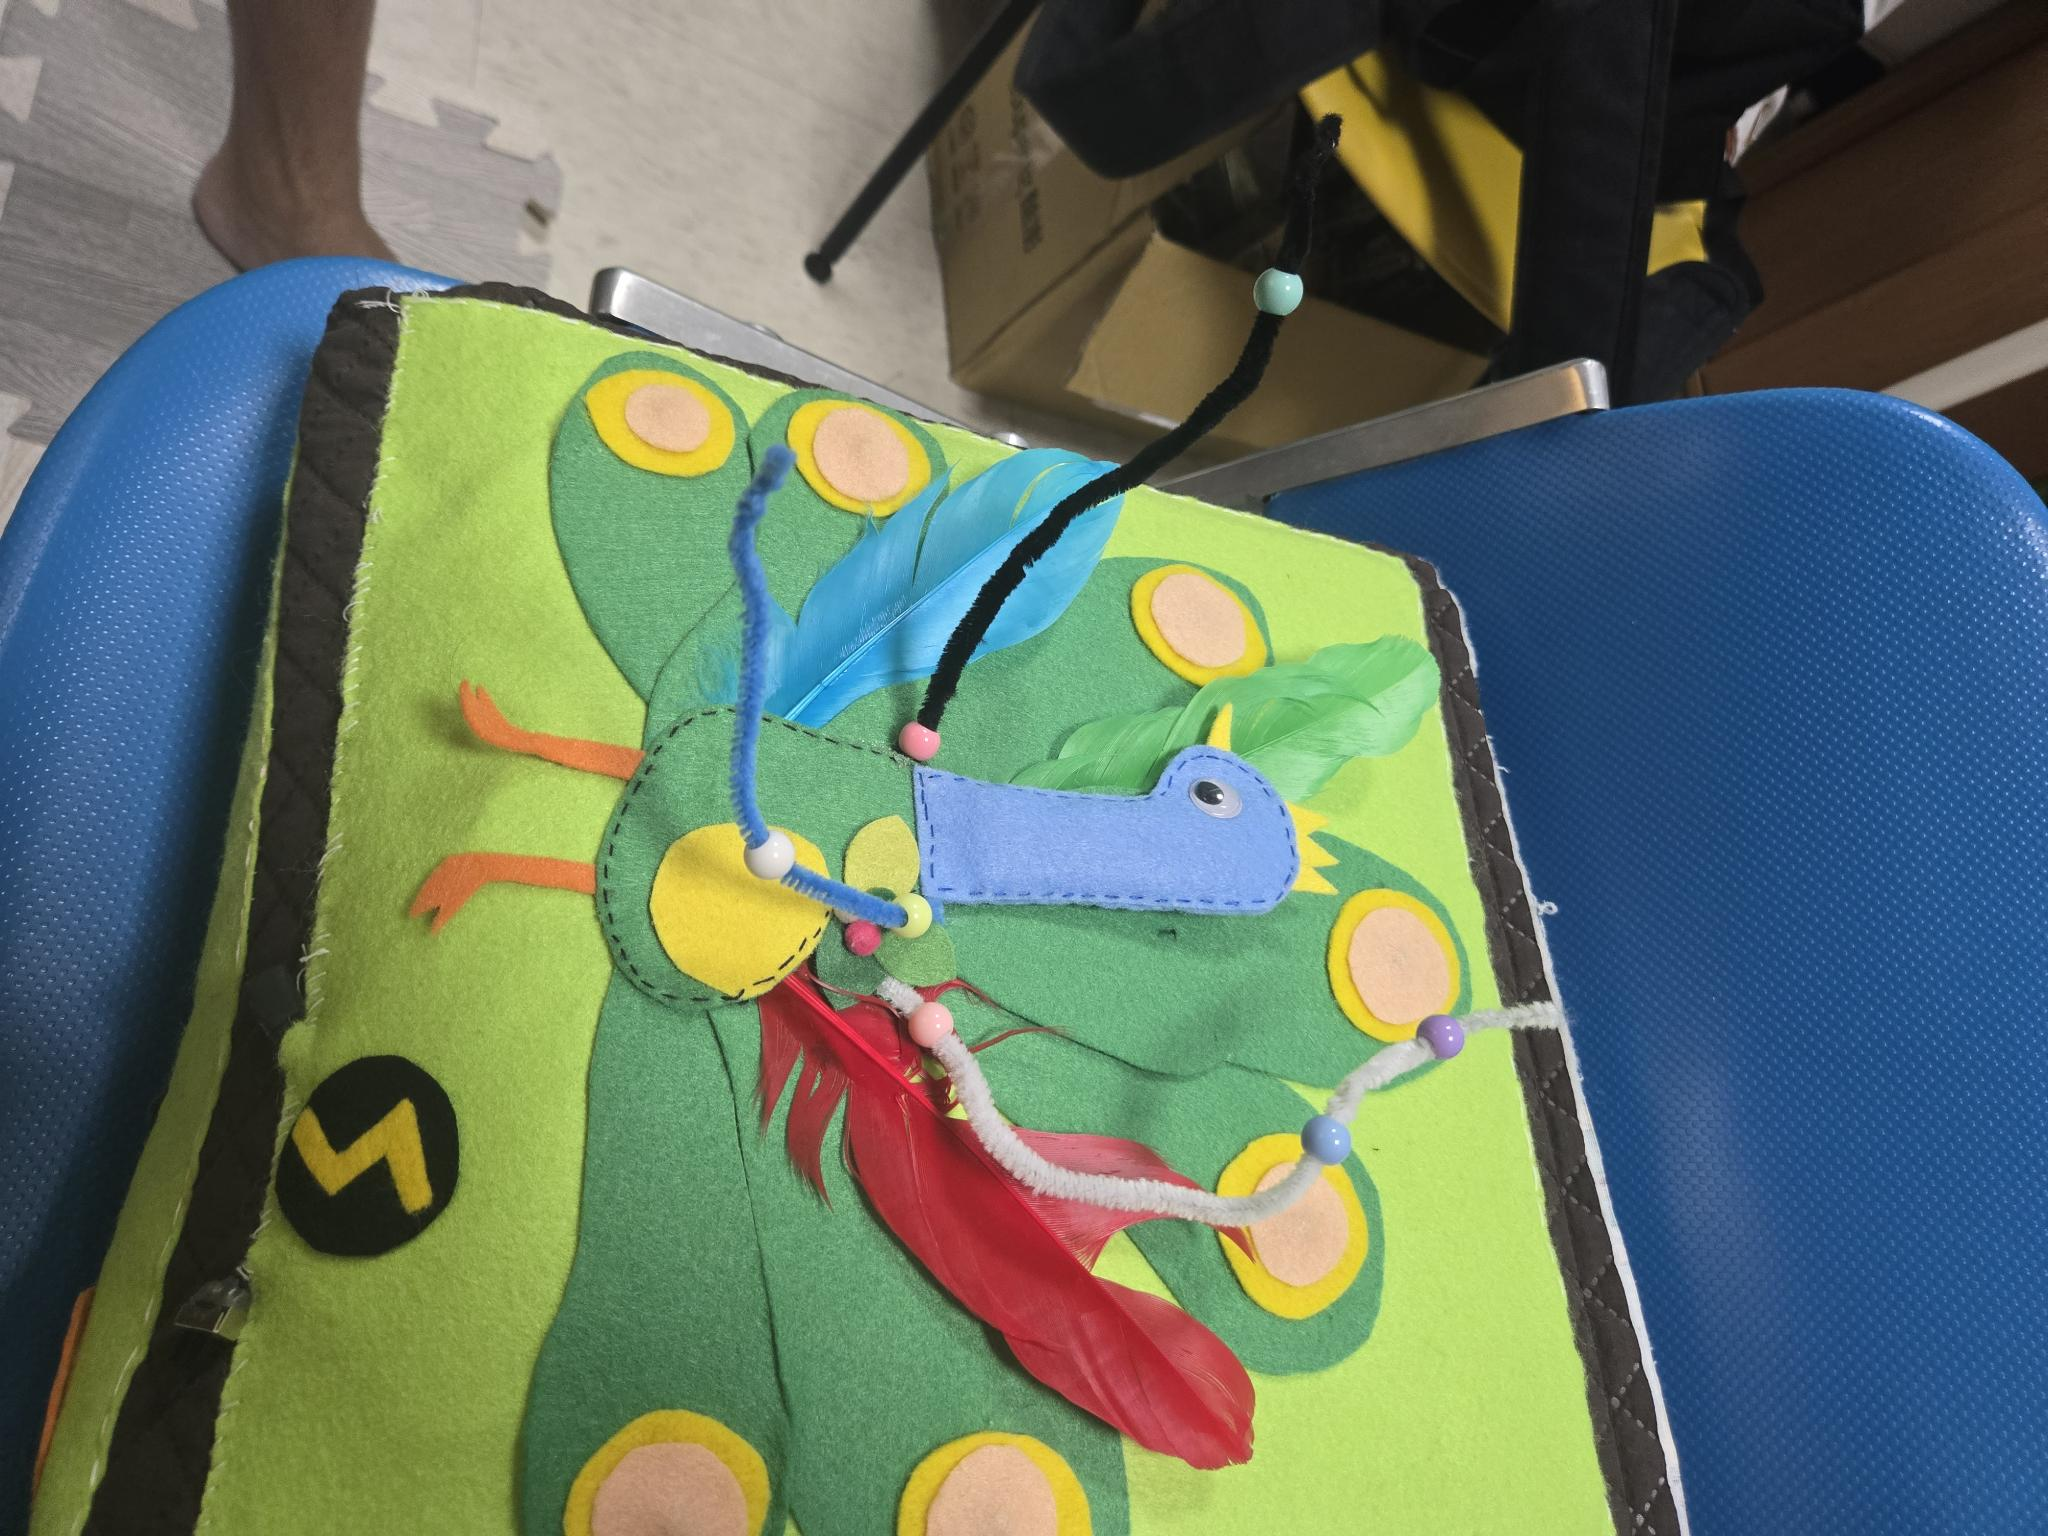bead: (1290, 1092, 1355, 1181), (1408, 1007, 1482, 1079), (1250, 248, 1313, 321), (892, 708, 953, 778), (743, 816, 803, 887), (906, 981, 961, 1055), (885, 878, 935, 952)
